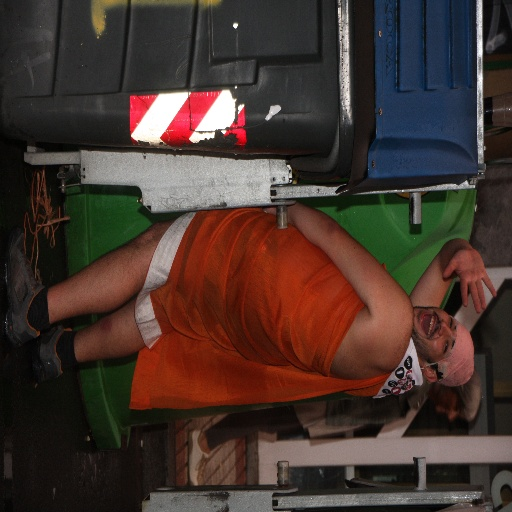hand: (442, 247, 497, 314), (263, 206, 277, 215)
